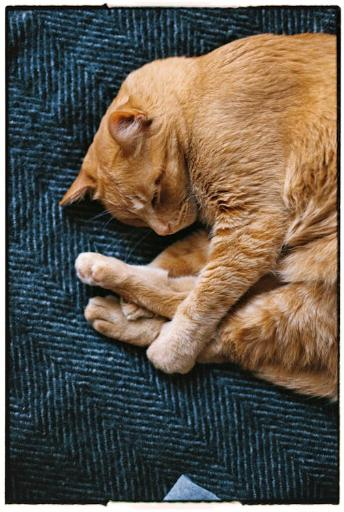cat_sleeping: (61, 33, 337, 399)
